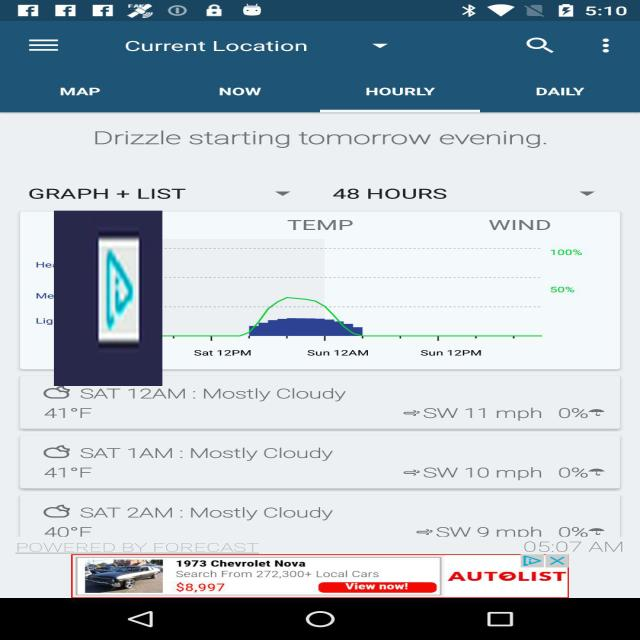sneaking: (54, 211, 162, 386)
